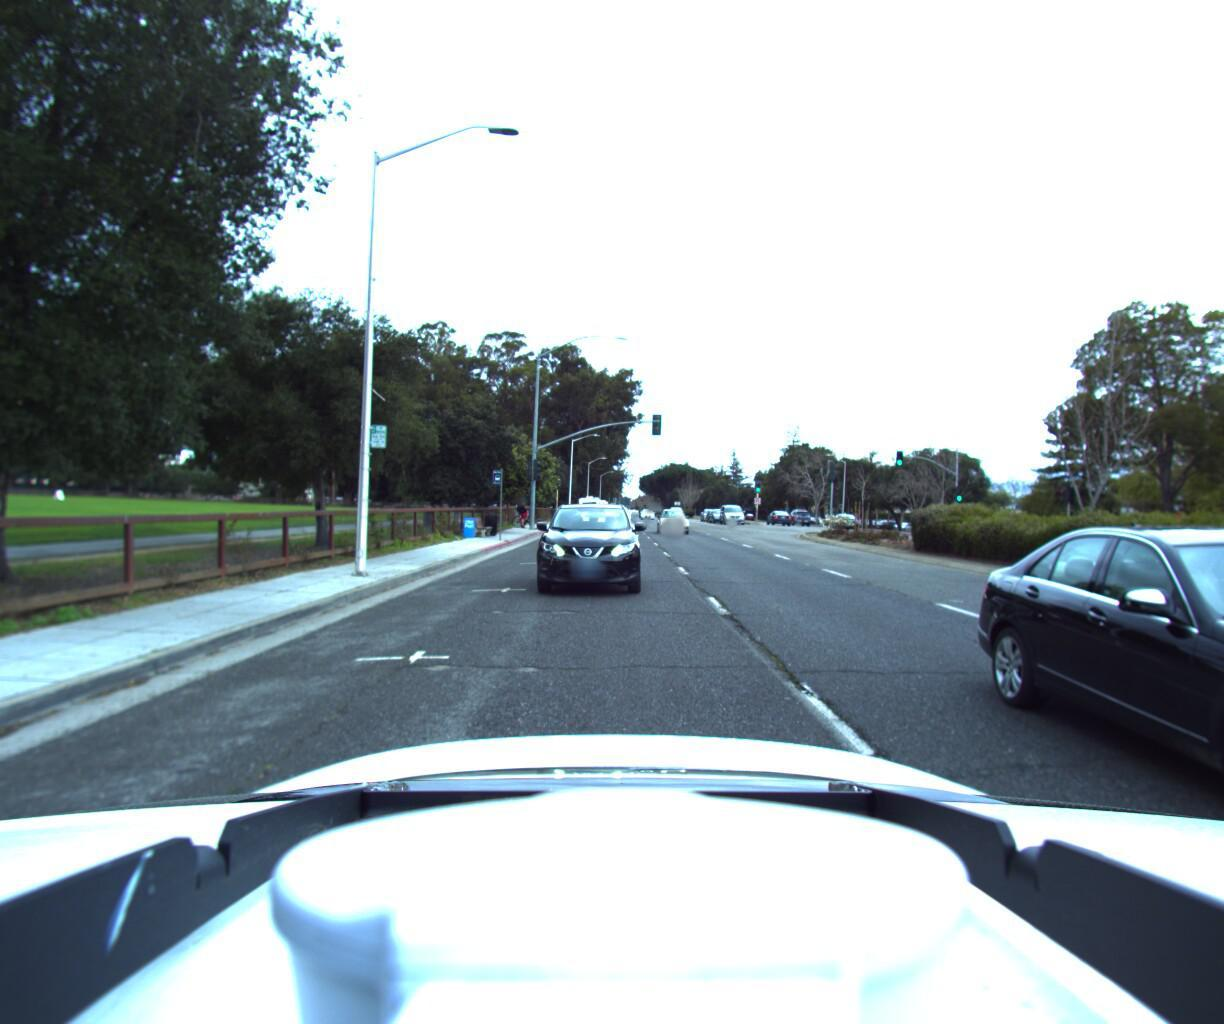bicycle: (510, 499, 539, 530)
car: (1049, 523, 1224, 1024), (523, 498, 645, 600), (653, 509, 691, 537), (716, 505, 745, 525), (763, 508, 790, 524)
other_vehicle: (575, 492, 599, 522)
